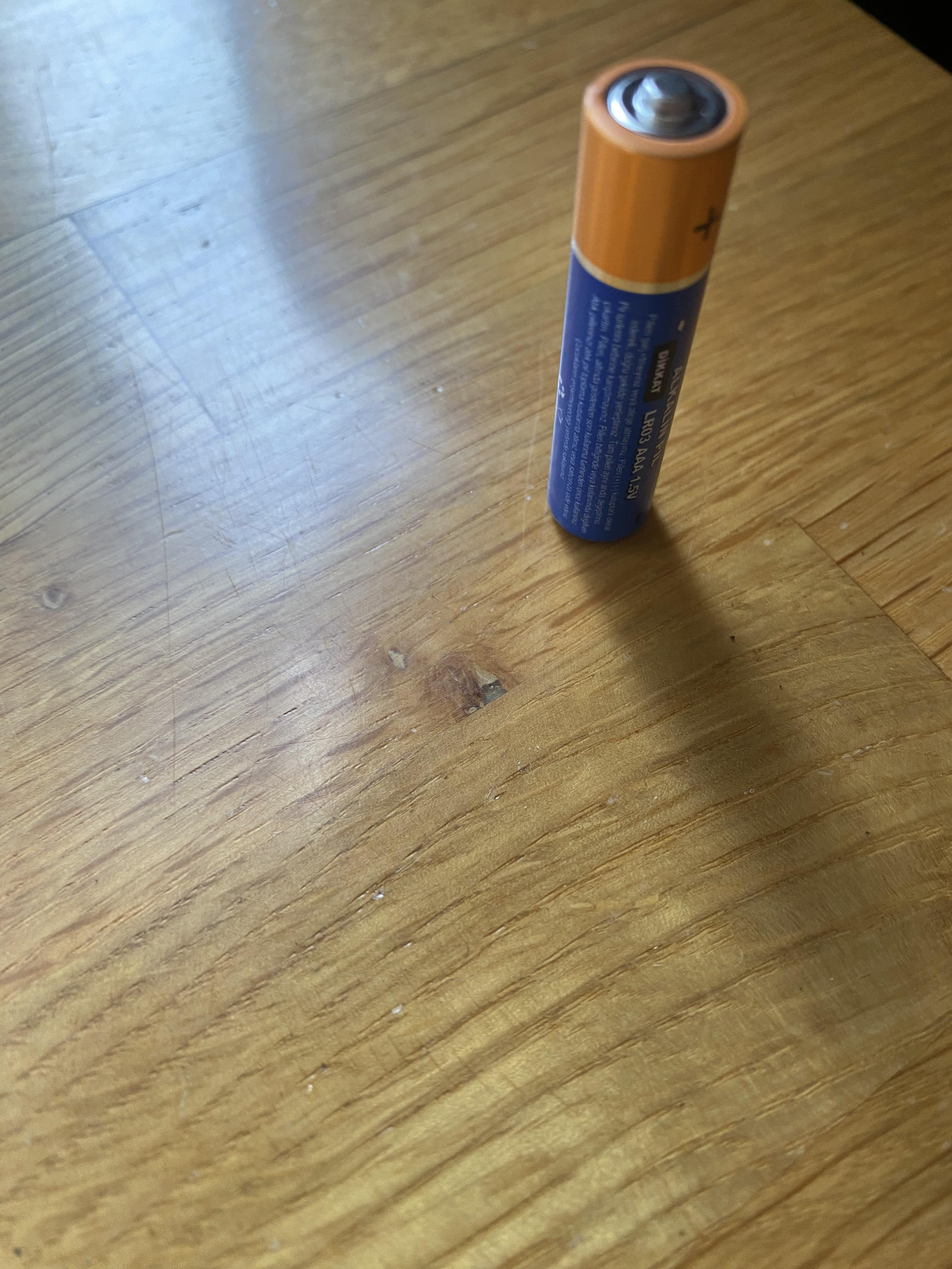AAA: (545, 55, 749, 543)
